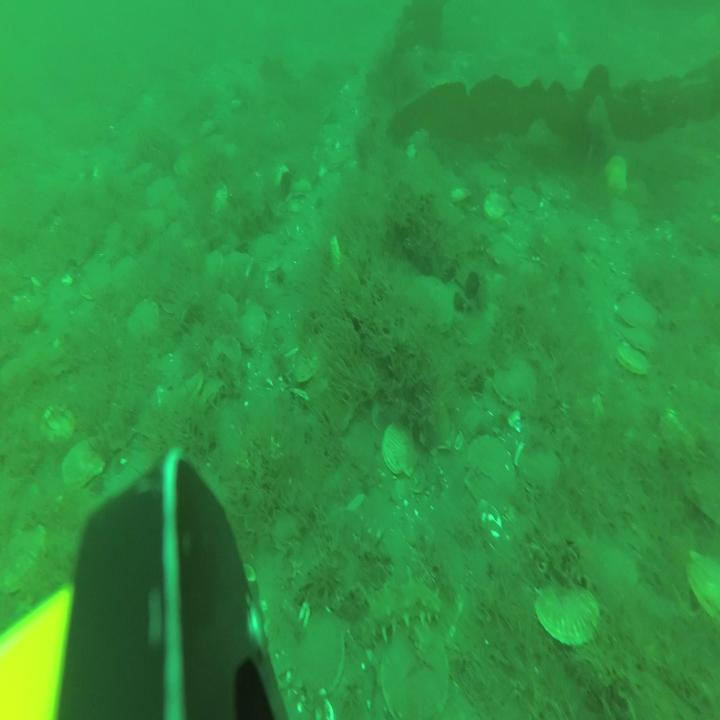holothurian: (362, 570, 444, 641)
scallop: (386, 623, 450, 720), (294, 603, 346, 698), (538, 581, 596, 653), (467, 438, 518, 514), (582, 537, 634, 606), (687, 541, 720, 634), (406, 270, 452, 333), (493, 350, 539, 412), (4, 529, 48, 589), (382, 418, 419, 481), (66, 436, 103, 494), (520, 442, 562, 491), (413, 393, 448, 450), (612, 285, 653, 330), (127, 298, 163, 346), (81, 253, 111, 306), (210, 336, 241, 384), (43, 404, 75, 448), (239, 301, 268, 347), (618, 343, 650, 380), (622, 322, 654, 357), (604, 151, 630, 193), (510, 178, 537, 215), (486, 189, 510, 222)
